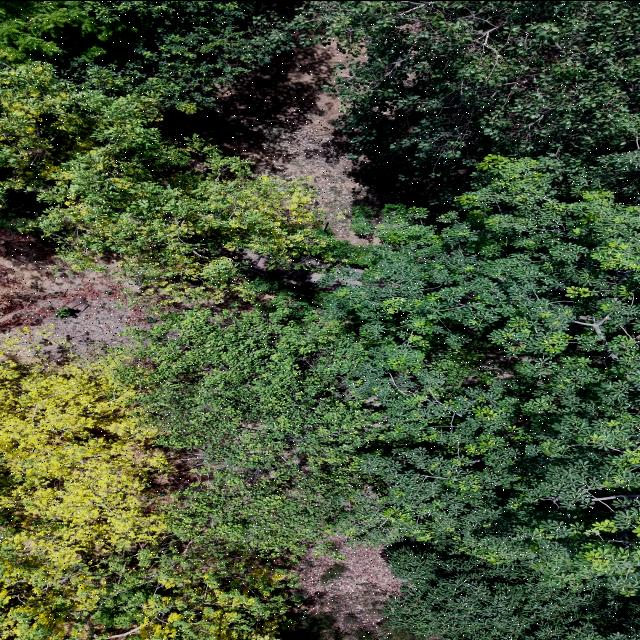DRY_AREA: (157, 45, 414, 244), (157, 45, 410, 244), (157, 45, 408, 244), (157, 45, 366, 242), (0, 230, 252, 363), (0, 231, 147, 363), (0, 230, 147, 362), (288, 537, 401, 639), (219, 249, 360, 289), (263, 1, 300, 19)
VEGETATION_TREE: (0, 1, 639, 639), (326, 156, 639, 596), (0, 1, 639, 200), (1, 362, 287, 639), (0, 64, 329, 298), (293, 1, 639, 201), (136, 294, 379, 554), (0, 364, 164, 639), (0, 1, 282, 111), (386, 545, 639, 639), (89, 537, 289, 639), (0, 1, 137, 69)
